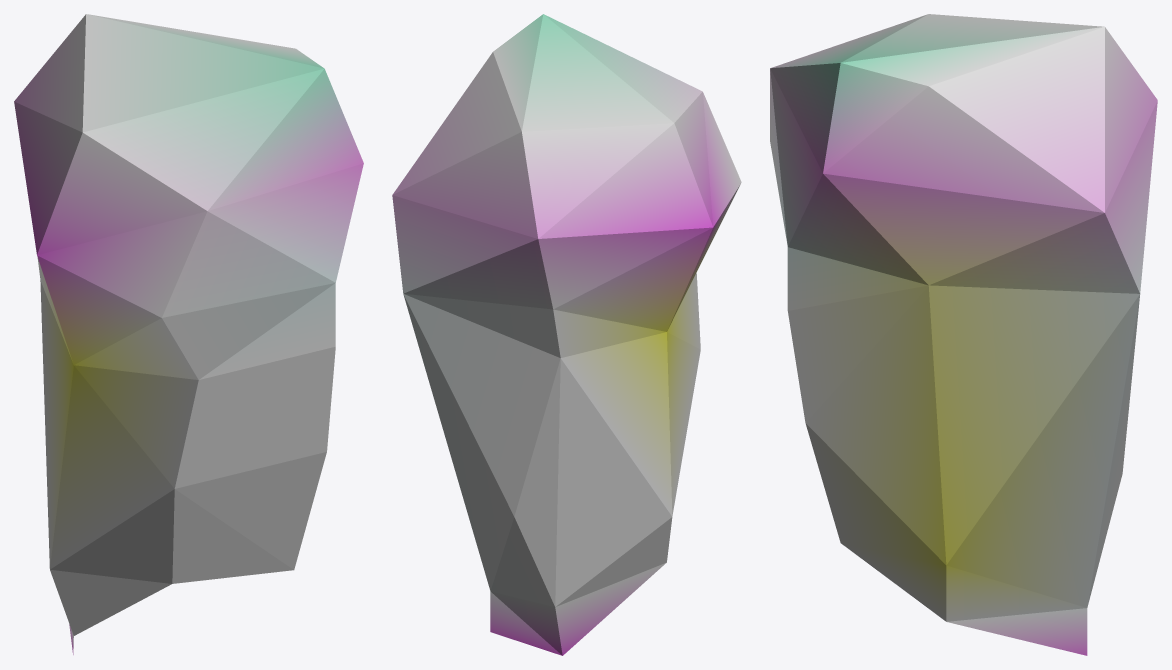
3 views of the same model, side by side, from view 1: azimuth 30°, elevation 25°; view 2: azimuth 150°, elevation 25°; view 3: azimuth 270°, elevation 25° (orthographic). The views are drawn at different scales.
Parts seen in each view (by area): view 1: model_113E; view 2: model_113E; view 3: model_113E.
Part boxes in pixels (x1,y1,x2,y2): model_113E: (14, 14, 363, 654); model_113E: (392, 14, 741, 655); model_113E: (770, 14, 1157, 655).
Bounding box in the file's own units: 19 × 40 × 22.
